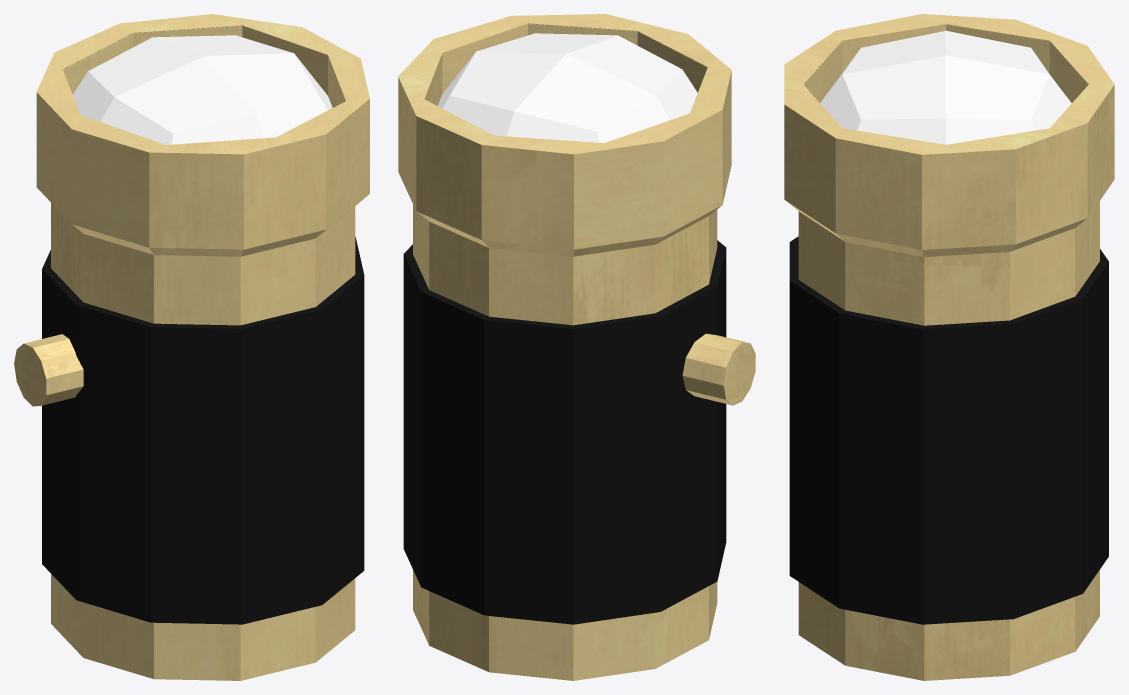
Rendered from Rétro_light.glb.
3 renders of one model, left to right at view 1: azimuth 30°, elevation 25°; view 2: azimuth 150°, elevation 25°; view 3: azimuth 270°, elevation 25°, orthographic.
Visible parts, largest first — view 1: Cylindre.002, Cylindre, Cube, Cylindre.001; view 2: Cylindre.002, Cylindre, Cube, Cylindre.001; view 3: Cylindre.002, Cylindre, Cube.
Part boxes in pixels (x1=…): Cylindre.002: x1=42, y1=237, x2=364, y2=624; Cylindre: x1=36, y1=14, x2=369, y2=680; Cube: x1=73, y1=35, x2=332, y2=144; Cylindre.001: x1=14, y1=334, x2=83, y2=406; Cylindre.002: x1=403, y1=240, x2=726, y2=624; Cylindre: x1=398, y1=14, x2=731, y2=680; Cube: x1=438, y1=33, x2=697, y2=142; Cylindre.001: x1=682, y1=333, x2=755, y2=405; Cylindre.002: x1=789, y1=236, x2=1108, y2=624; Cylindre: x1=784, y1=14, x2=1114, y2=680; Cube: x1=820, y1=30, x2=1071, y2=144.
Size of the model in its own units: 0.9047 by 1.54 by 0.8129.
Materials: 3 (2 with a texture image).
